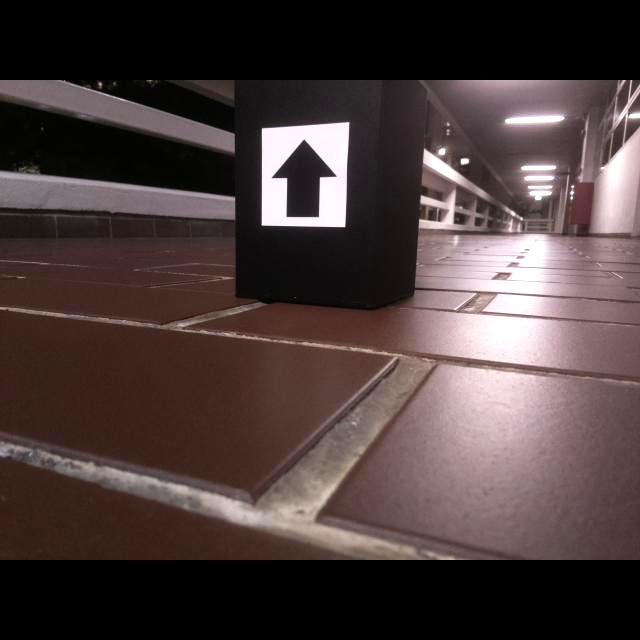UP: (271, 139, 338, 218)
